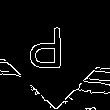P_S: (36, 29, 74, 81)
